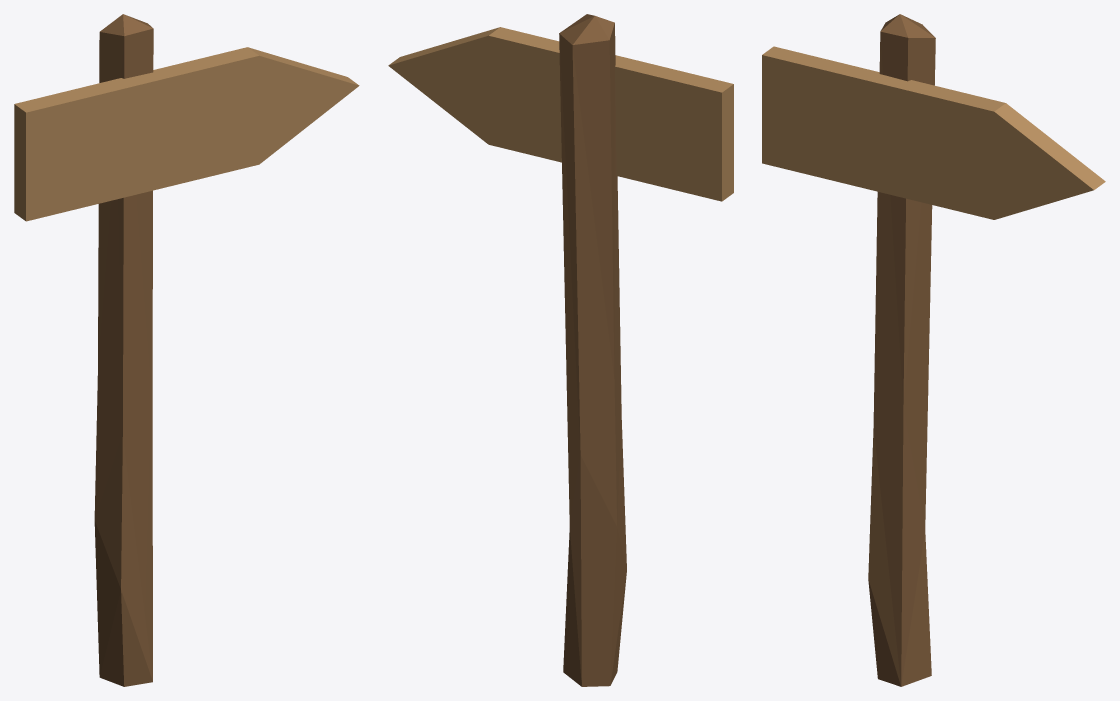
Rendered from Pointer_02.fbx.
The picture shows the model from 3 angles, left to right: view 1: azimuth 30°, elevation 25°; view 2: azimuth 150°, elevation 25°; view 3: azimuth 330°, elevation 25°; orthographic projection.
Parts seen in each view (by area): view 1: Pointer_02; view 2: Pointer_02; view 3: Pointer_02.
Boxes of the visible parts, x1,y1,x2,y2 form: Pointer_02: (14, 14, 359, 686); Pointer_02: (388, 14, 733, 686); Pointer_02: (762, 14, 1105, 686).
Bounding box in the file's own units: 0.8961 × 1.7 × 0.168.
